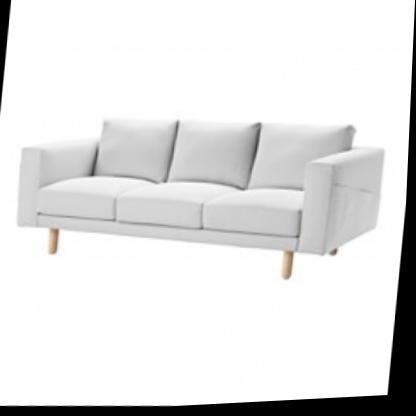Sofa: (0, 70, 400, 319)
